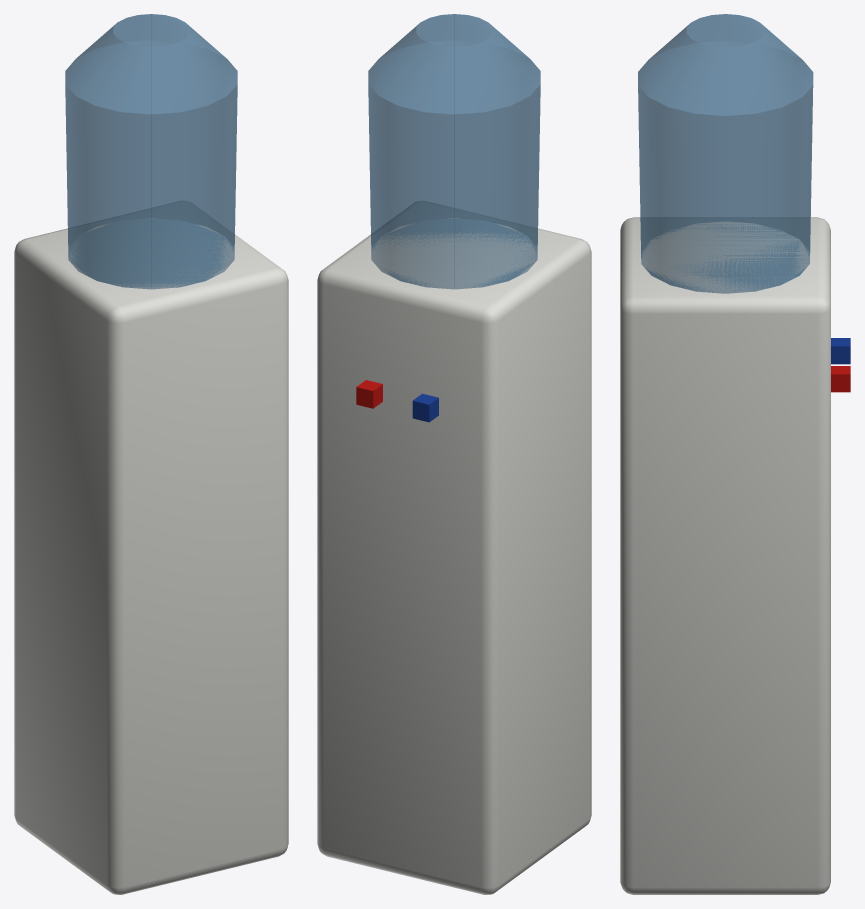
File: furniture.appliance.water_cooler.glb
3 renders of one model, left to right at view 1: azimuth 30°, elevation 25°; view 2: azimuth 150°, elevation 25°; view 3: azimuth 270°, elevation 25°, orthographic.
Visible parts, largest first — view 1: main__paint_white, main__water; view 2: main__paint_white, main__water, main__plastic_red, main__plastic_blue; view 3: main__paint_white, main__water, main__plastic_blue, main__plastic_red.
Boxes of the visible parts, x1,y1,x2,y2 form: main__paint_white: (14, 201, 288, 894); main__water: (65, 14, 237, 289); main__paint_white: (317, 201, 591, 894); main__water: (368, 14, 540, 289); main__plastic_red: (356, 380, 382, 408); main__plastic_blue: (412, 393, 438, 422); main__paint_white: (620, 217, 830, 894); main__water: (638, 14, 813, 293); main__plastic_blue: (831, 338, 850, 364); main__plastic_red: (831, 366, 850, 392).
Size of the model in its own units: 0.32 by 1.38 by 0.35.
